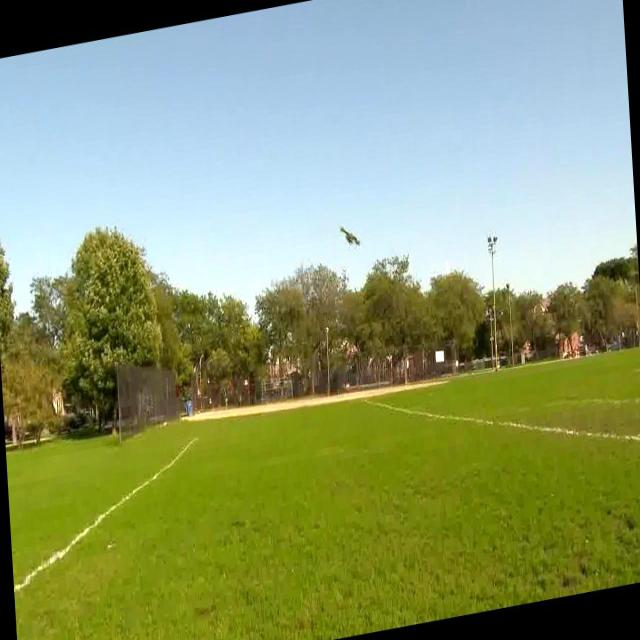drone: (334, 214, 363, 258)
